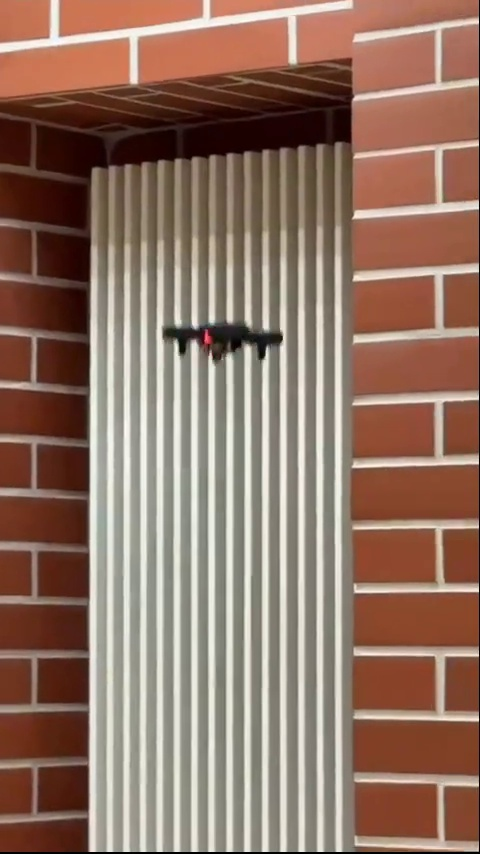drone: (164, 320, 289, 361)
